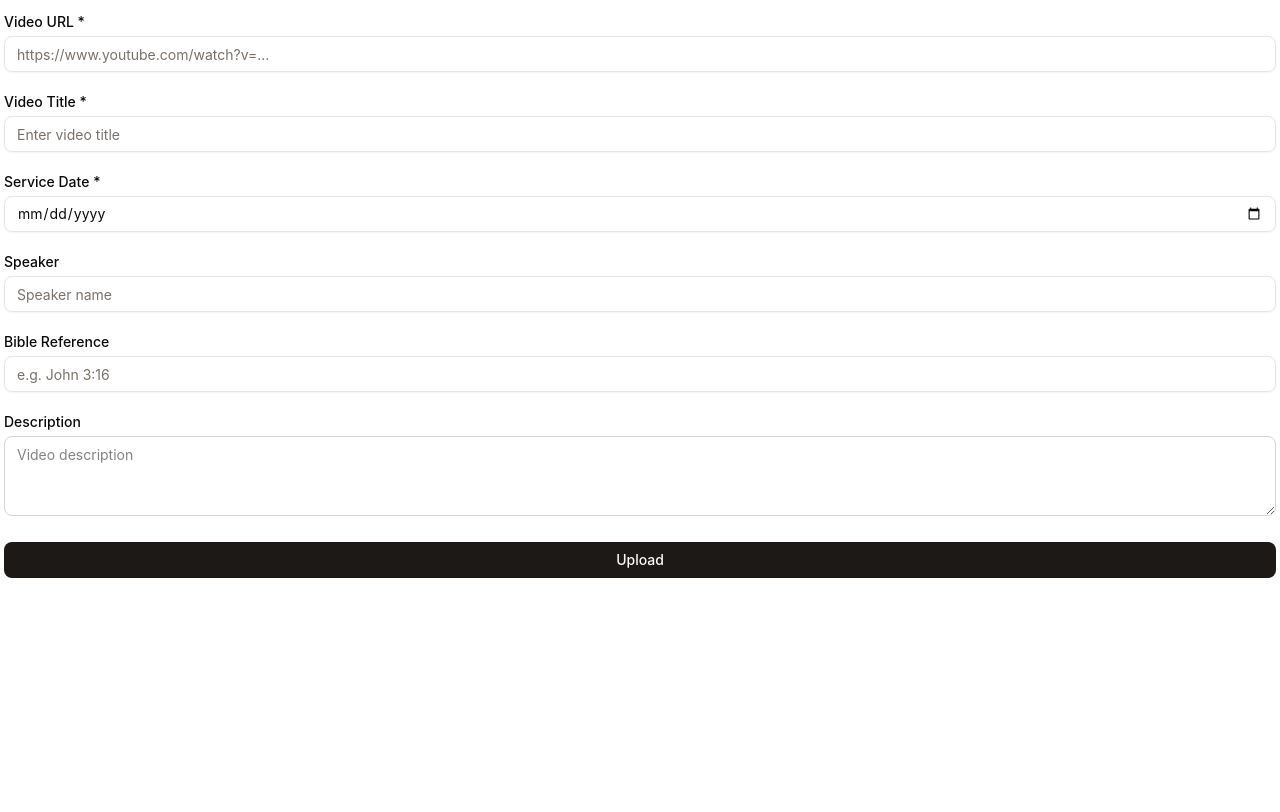
UploadForm › disables the submit button while uploading
The image size is (1280, 812).
Type "https://youtube.com/watch?v=test" into the field labelled "Video URL *".
click(640, 54); type("https://youtube.com/watch?v=test")  # box [4,36,1276,72]
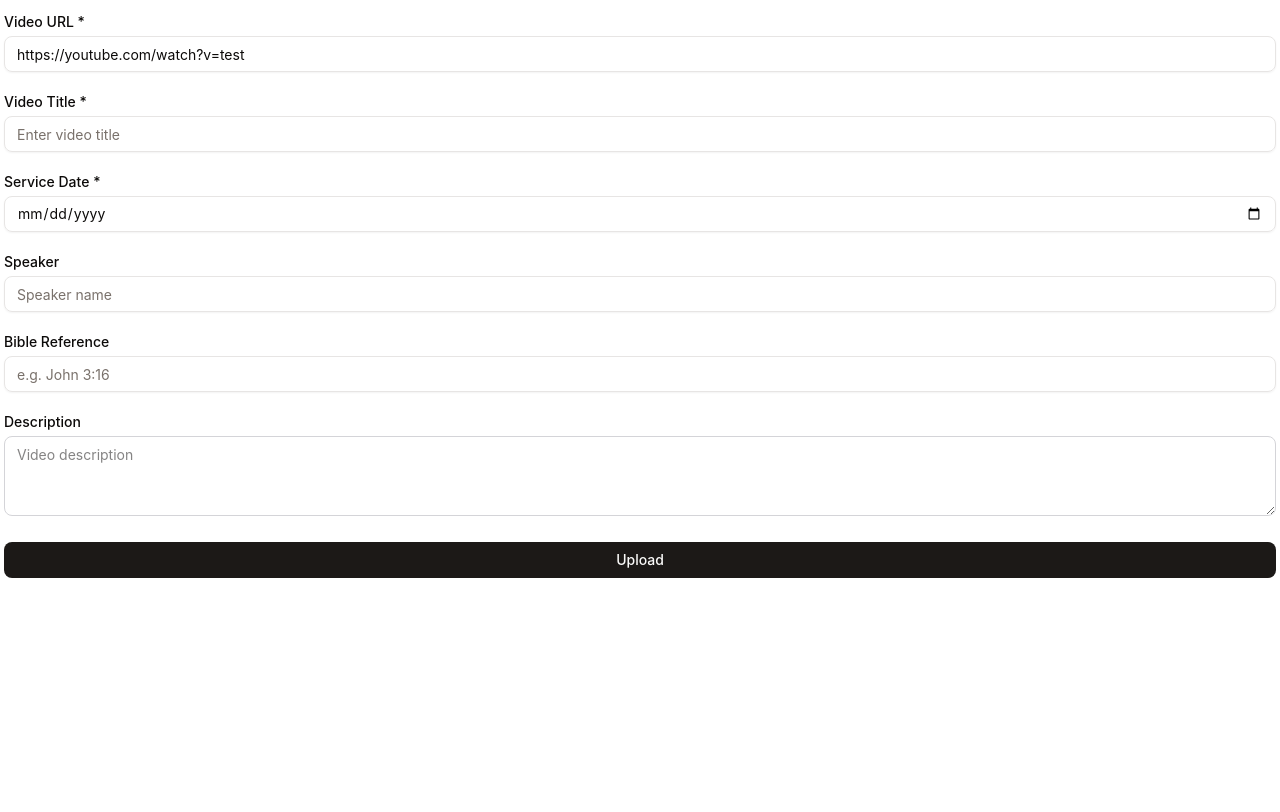
Type "Test Video" into the field labelled "Video Title *".
click(640, 134); type("Test Video")  # box [4,116,1276,152]
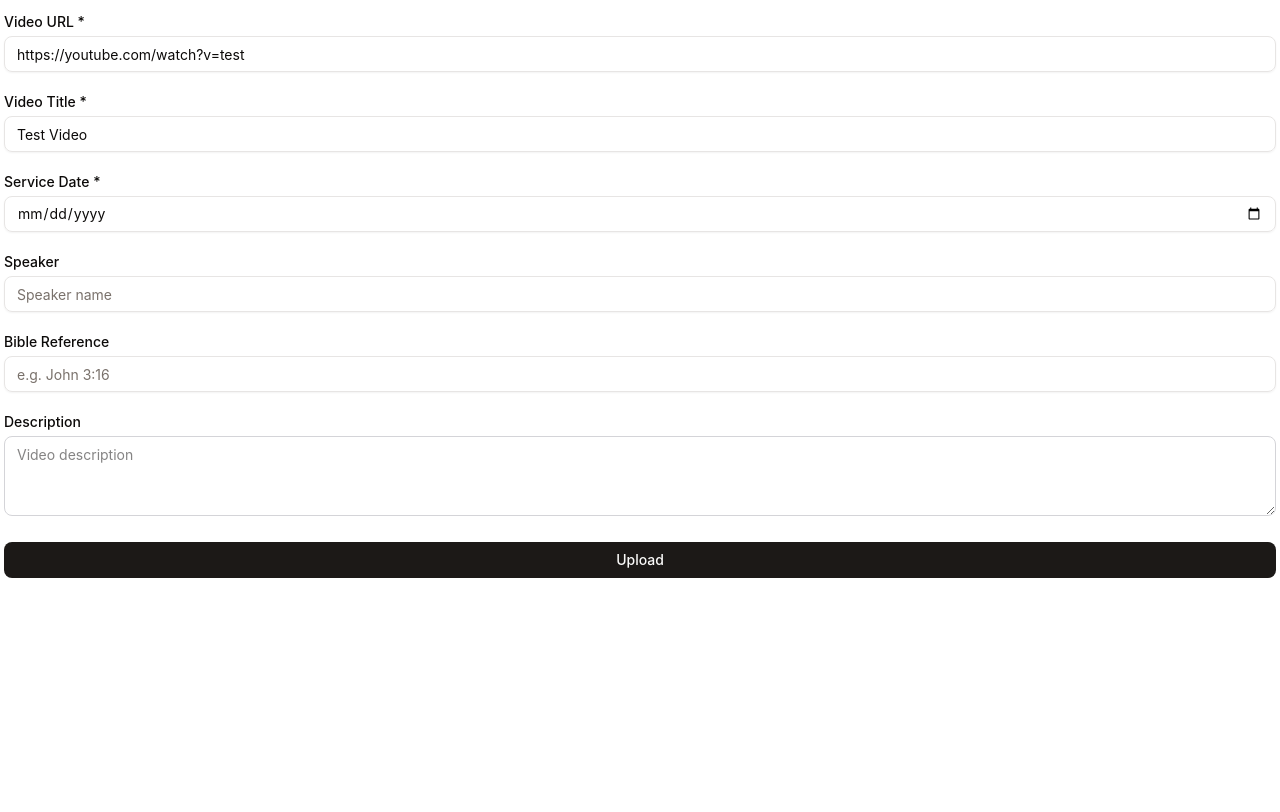
Type "2026-05-01" into the date field labelled "Service Date *".
click(640, 214); type("2026-05-01")  # box [4,196,1276,232]
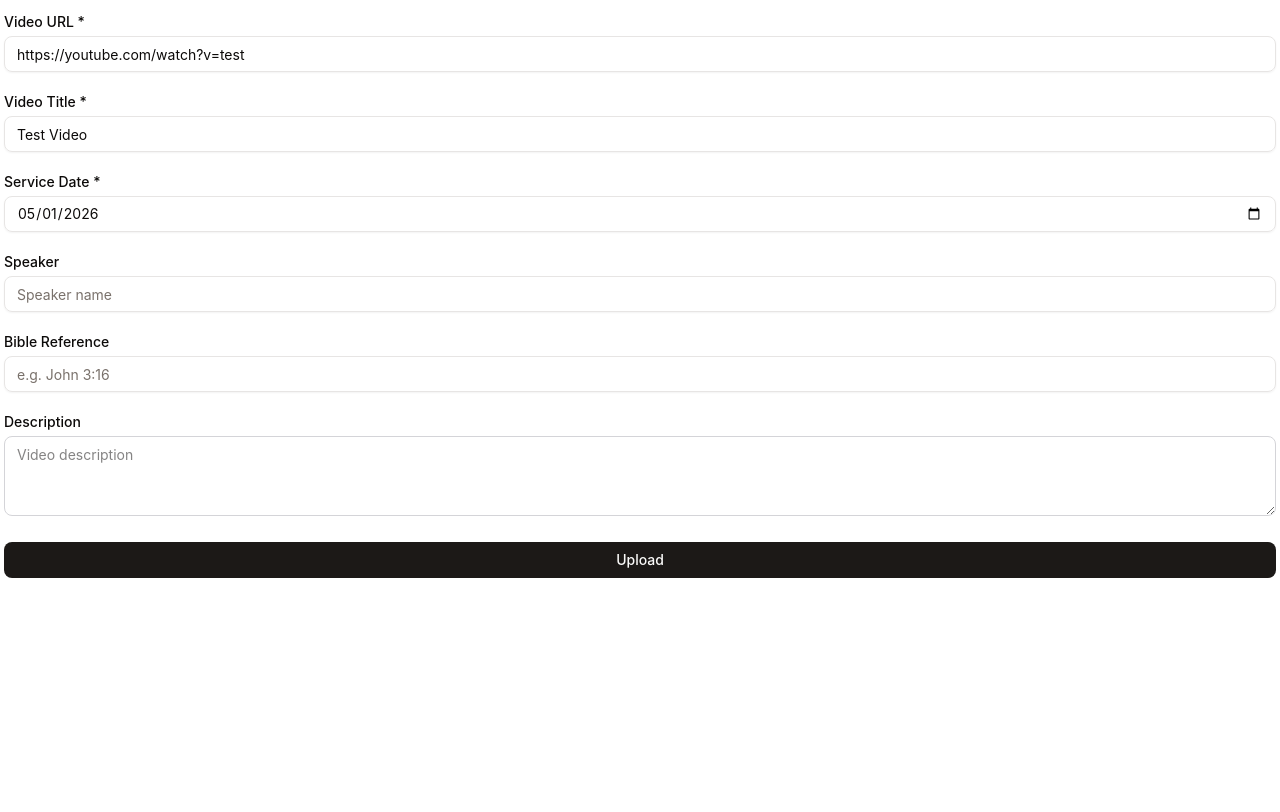
Click the button "Upload".
click(640, 560)  # box [4,542,1276,578]
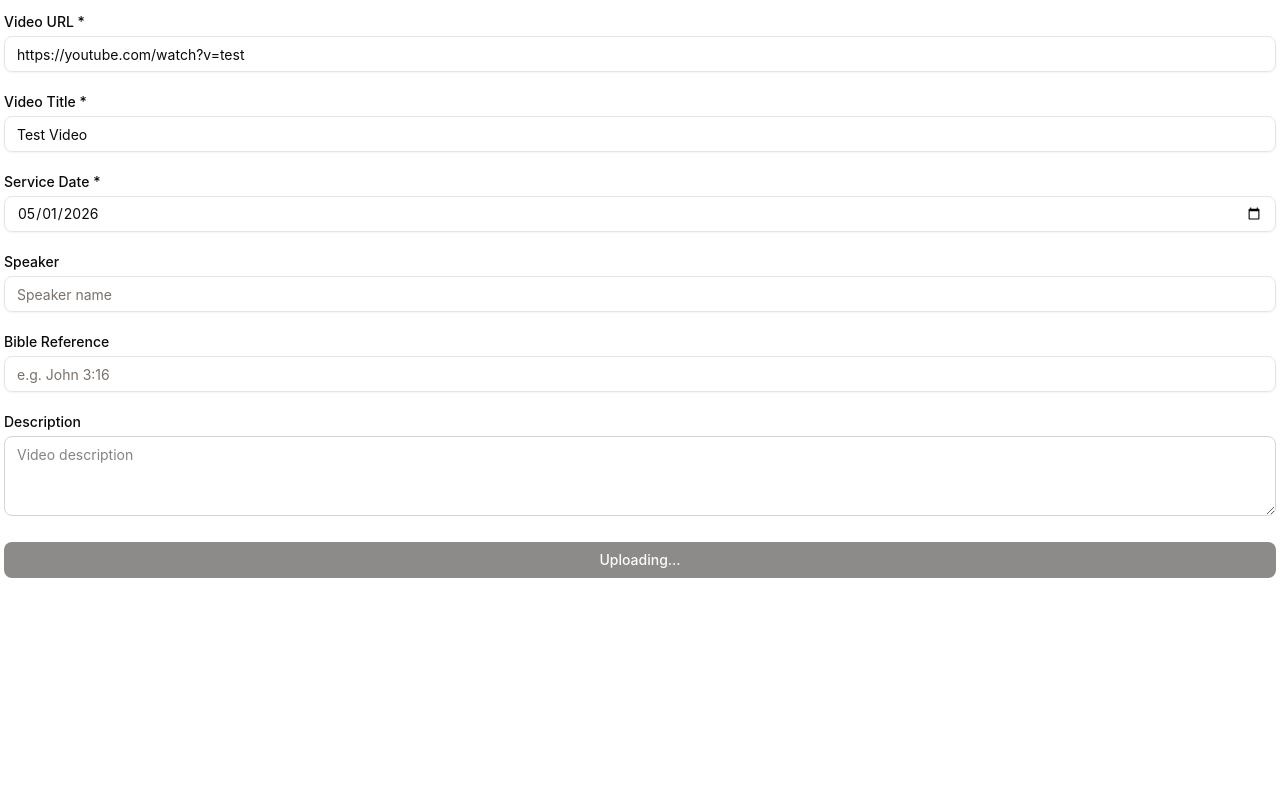
Expected: the button "Uploading..." is disabled, [4,542,1276,578]
